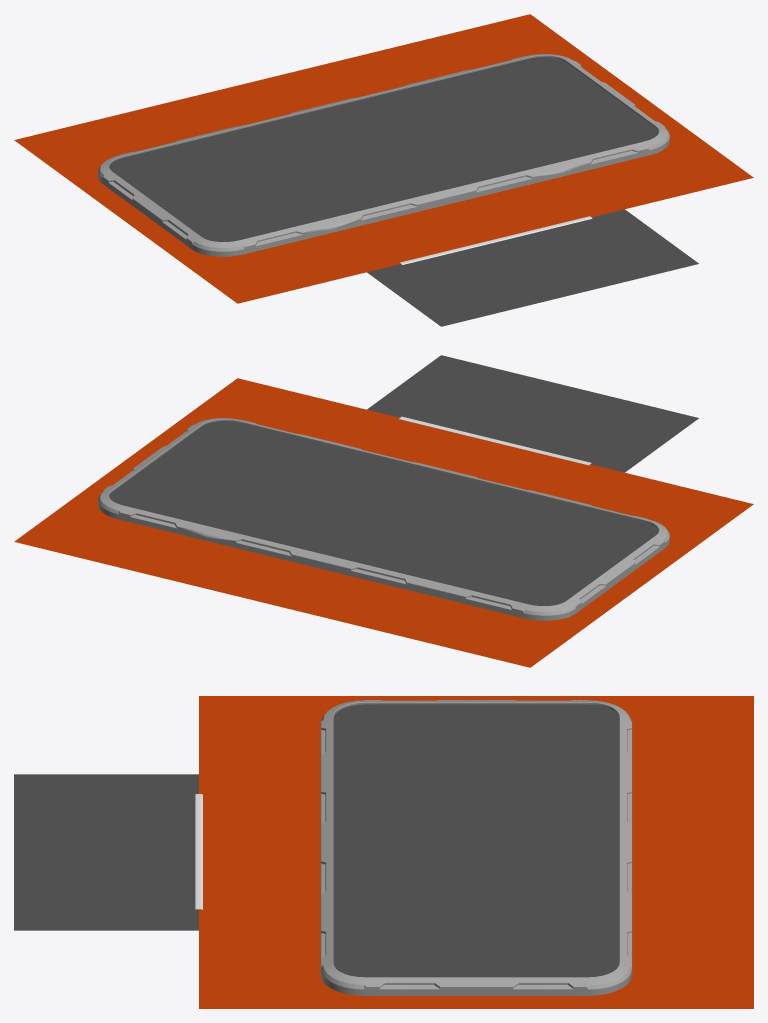
Rendered from floor_00_test_1.fbx.
3 renders of one model, top to bottom at view 1: azimuth 30°, elevation 25°; view 2: azimuth 150°, elevation 25°; view 3: azimuth 270°, elevation 25°, orthographic. The views are drawn at different scales.
Parts seen in each view (by area): view 1: floor_00_test_1; view 2: floor_00_test_1; view 3: floor_00_test_1.
Part boxes in pixels (box(x1,y1,x2,y2)): floor_00_test_1: box(14, 14, 753, 326); floor_00_test_1: box(14, 355, 753, 667); floor_00_test_1: box(14, 696, 753, 1008).
Size of the model in its own units: 1291 by 26.4 by 1291.
